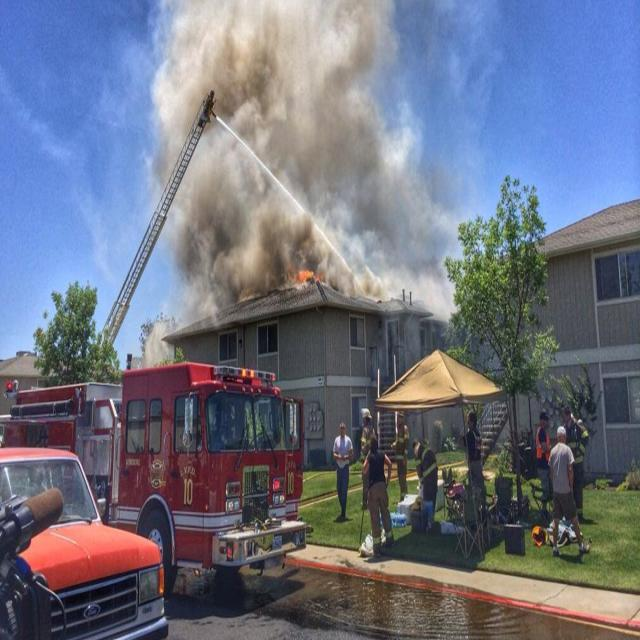Smoke: (173, 8, 384, 257)
